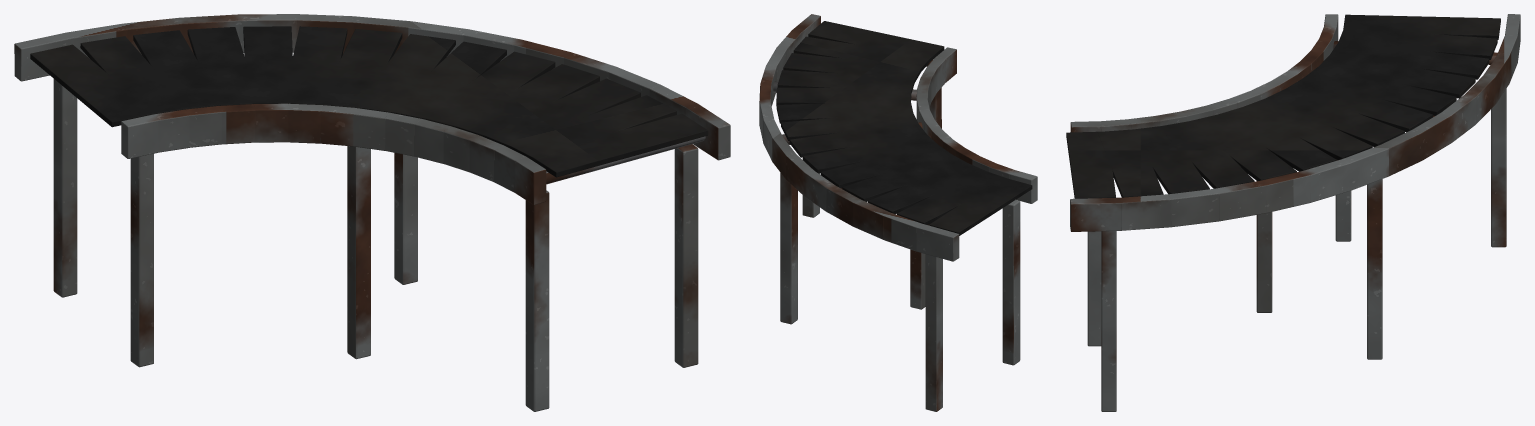
The model's file is F02_conveyor_belt_curve.glb.
The picture shows the model from 3 angles, left to right: view 1: azimuth 30°, elevation 25°; view 2: azimuth 150°, elevation 25°; view 3: azimuth 270°, elevation 25°; orthographic projection. The views are drawn at different scales.
Visible parts, largest first — view 1: F02_conveyor_belt_curve; view 2: F02_conveyor_belt_curve; view 3: F02_conveyor_belt_curve.
Part boxes in pixels (x1,y1,x2,y2): F02_conveyor_belt_curve: (14, 14, 730, 411); F02_conveyor_belt_curve: (759, 14, 1037, 411); F02_conveyor_belt_curve: (1066, 14, 1520, 411).
Bounding box in the file's own units: 3 × 1.56 × 3.
Materials: 3 (3 with a texture image).
